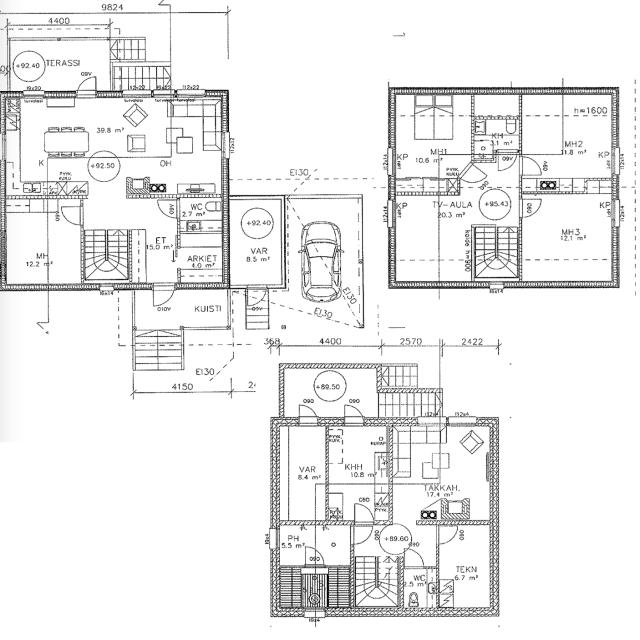door: (351, 502, 374, 547), (151, 283, 176, 308), (342, 403, 365, 428), (519, 195, 542, 219), (436, 523, 460, 546), (74, 75, 98, 98), (59, 203, 82, 226), (401, 547, 425, 569), (520, 154, 542, 177), (296, 403, 318, 426), (156, 198, 179, 219), (496, 150, 517, 172), (302, 546, 324, 565), (246, 288, 266, 307), (154, 0, 170, 7)
window: (174, 88, 207, 100), (0, 132, 10, 162), (387, 147, 397, 177), (388, 200, 397, 228), (270, 526, 280, 550), (612, 198, 620, 228), (487, 281, 505, 291), (98, 282, 116, 291)
zone: (519, 94, 617, 190), (519, 192, 617, 284), (390, 95, 474, 185), (392, 193, 473, 283), (2, 196, 78, 284), (164, 100, 223, 197), (276, 424, 328, 523), (436, 523, 493, 613), (228, 196, 284, 286), (432, 436, 492, 520), (301, 205, 351, 292), (326, 425, 389, 491), (389, 426, 443, 490), (275, 566, 347, 611), (175, 230, 227, 286), (399, 566, 438, 614), (312, 522, 352, 567), (178, 196, 225, 232), (472, 120, 520, 152), (276, 523, 310, 568), (354, 583, 399, 615), (473, 252, 518, 280), (474, 95, 520, 120), (452, 328, 501, 346)
